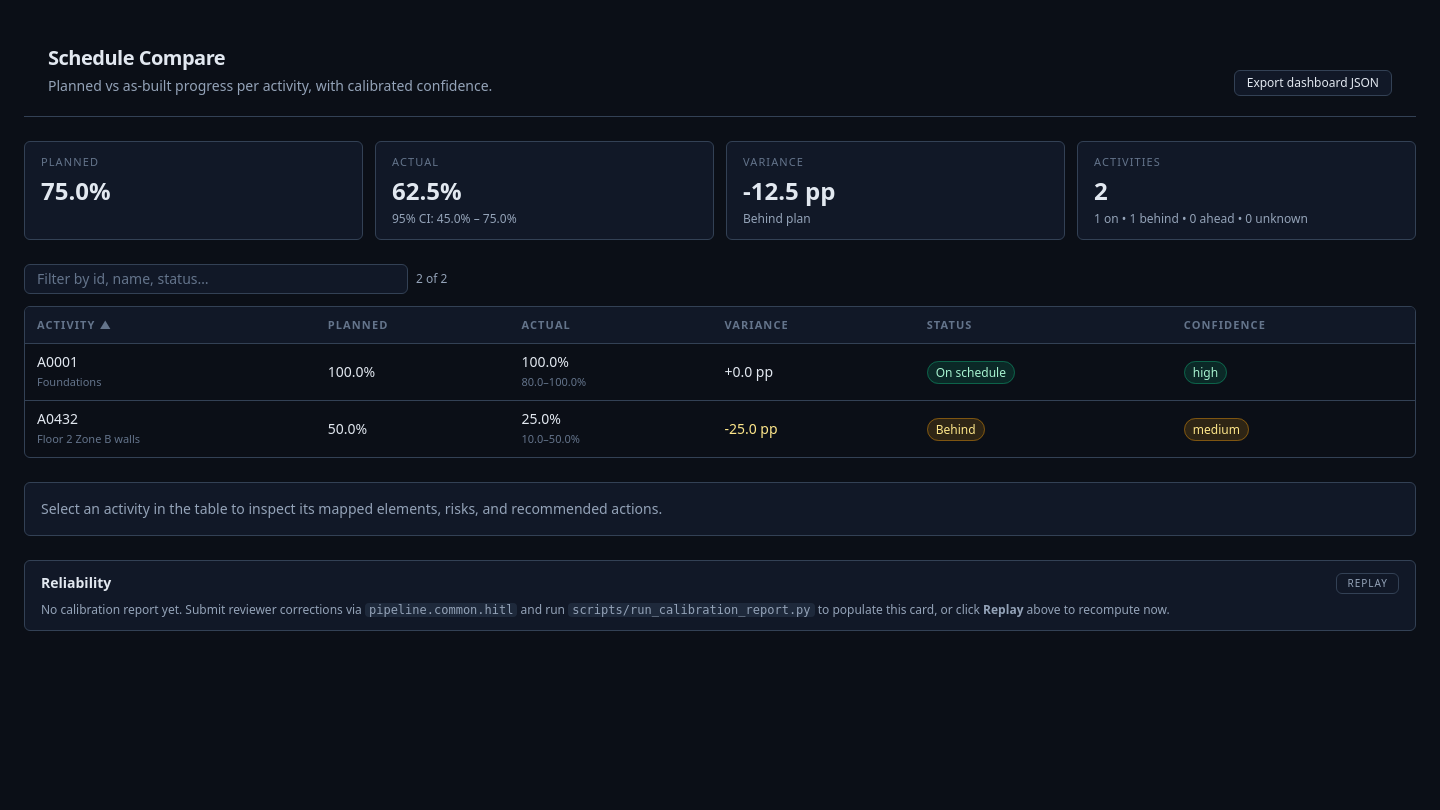
Test: ScheduleComparePage › opens the drilldown panel with risks and mapped elements when a row is clicked
This screenshot has width=1440, height=810.
Click the row with test id "activity-row-A0432" at (720,428), box top-left (25, 400), bottom-right (1415, 456)
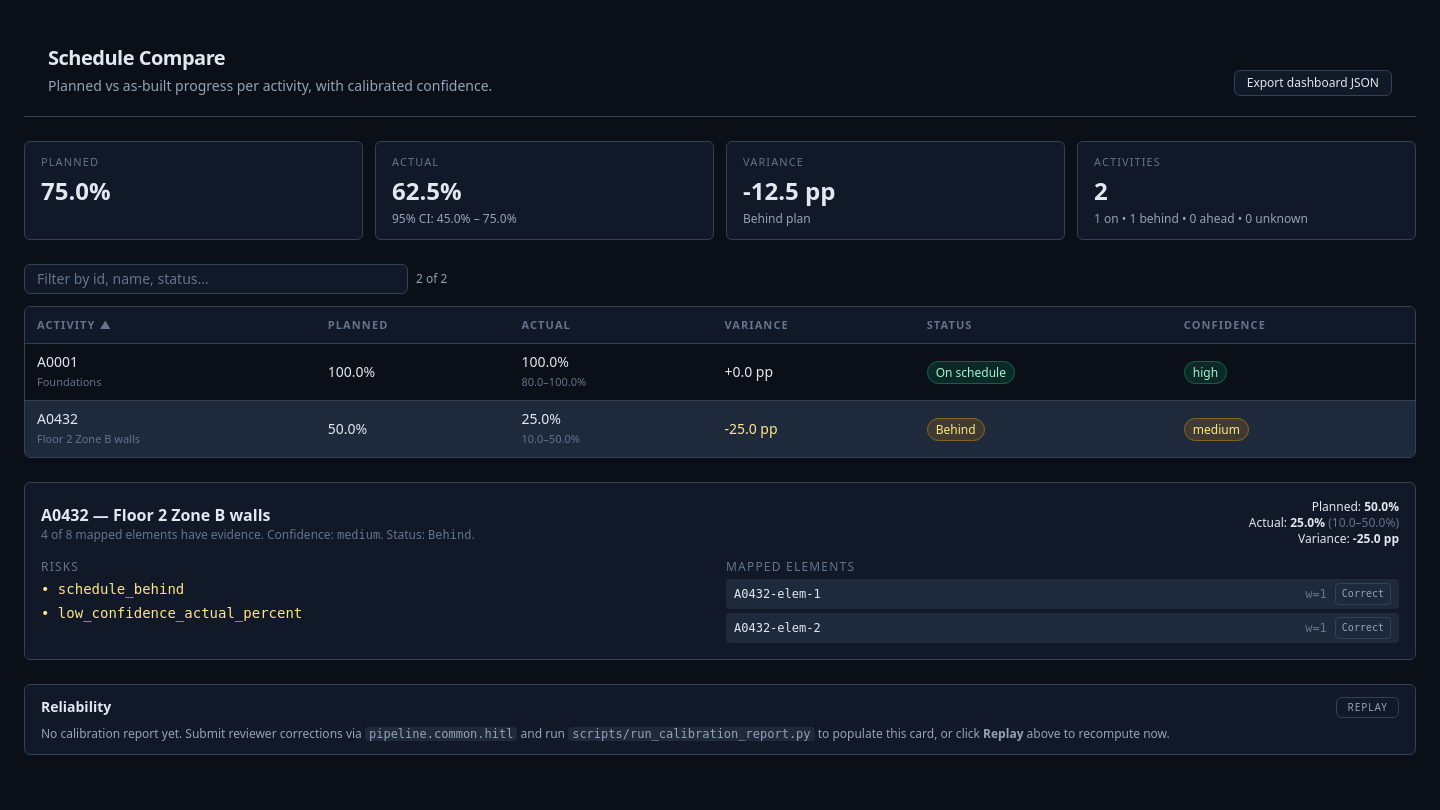
Expected: the heading "A0432 — Floor 2 Zone B walls" is shown, top-left (41, 504), bottom-right (270, 526)
Expected: the list item "• schedule_behind" is shown, top-left (41, 580), bottom-right (184, 596)
Expected: the text "A0432-elem-1" is shown, top-left (734, 586), bottom-right (821, 602)
